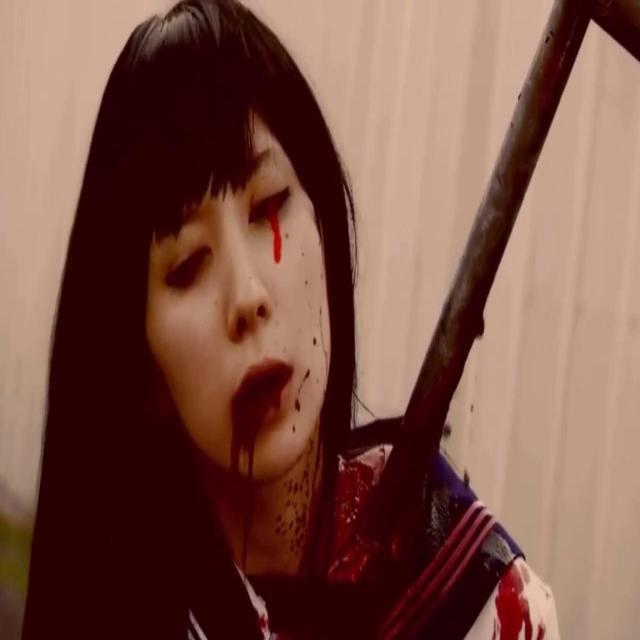flood: (316, 420, 443, 614), (226, 377, 286, 553), (262, 210, 300, 288)
